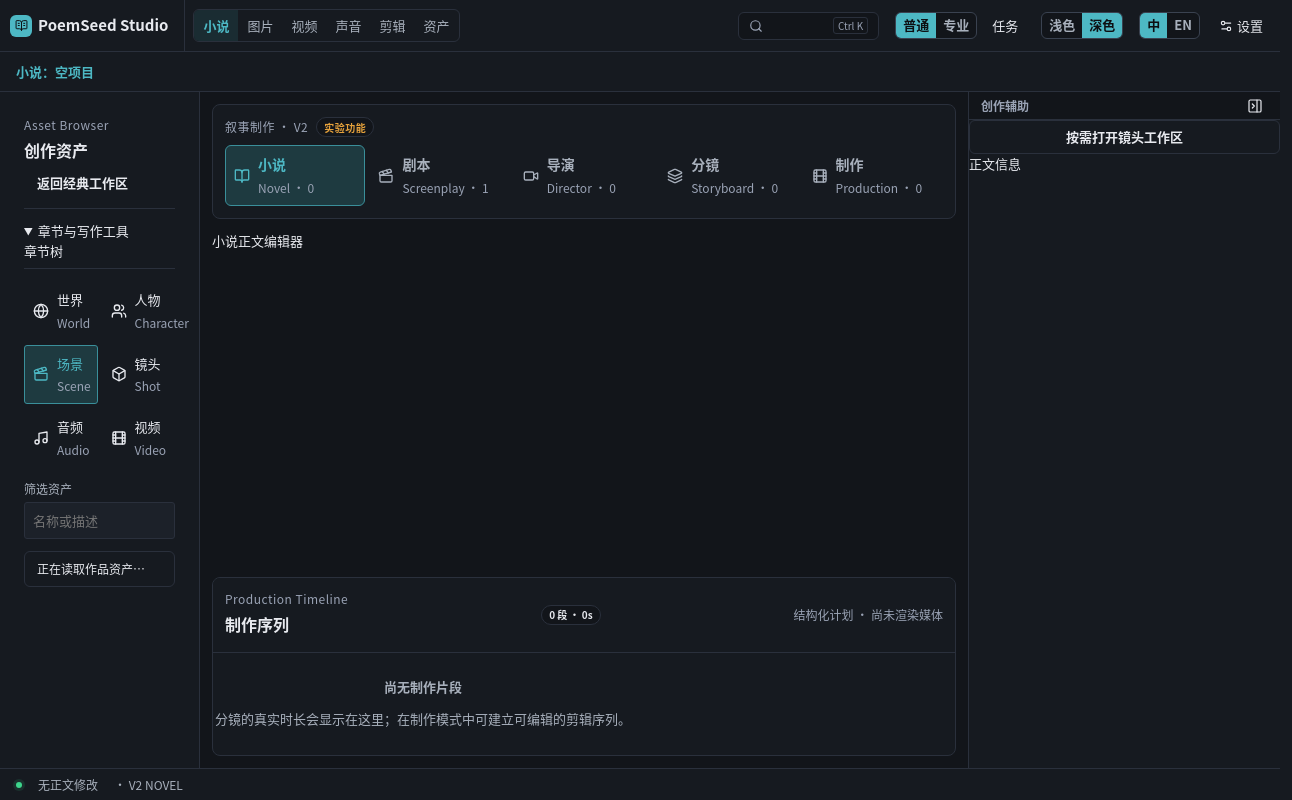
Test: retains original Script and blocks automatic retry when a staging receipt does not preserve its source
What coordinates should you click on to do the following:
click the tab "剧本 Screenplay · 1"
I would click on:
 (440, 176)
Its box is [369,145,510,206].
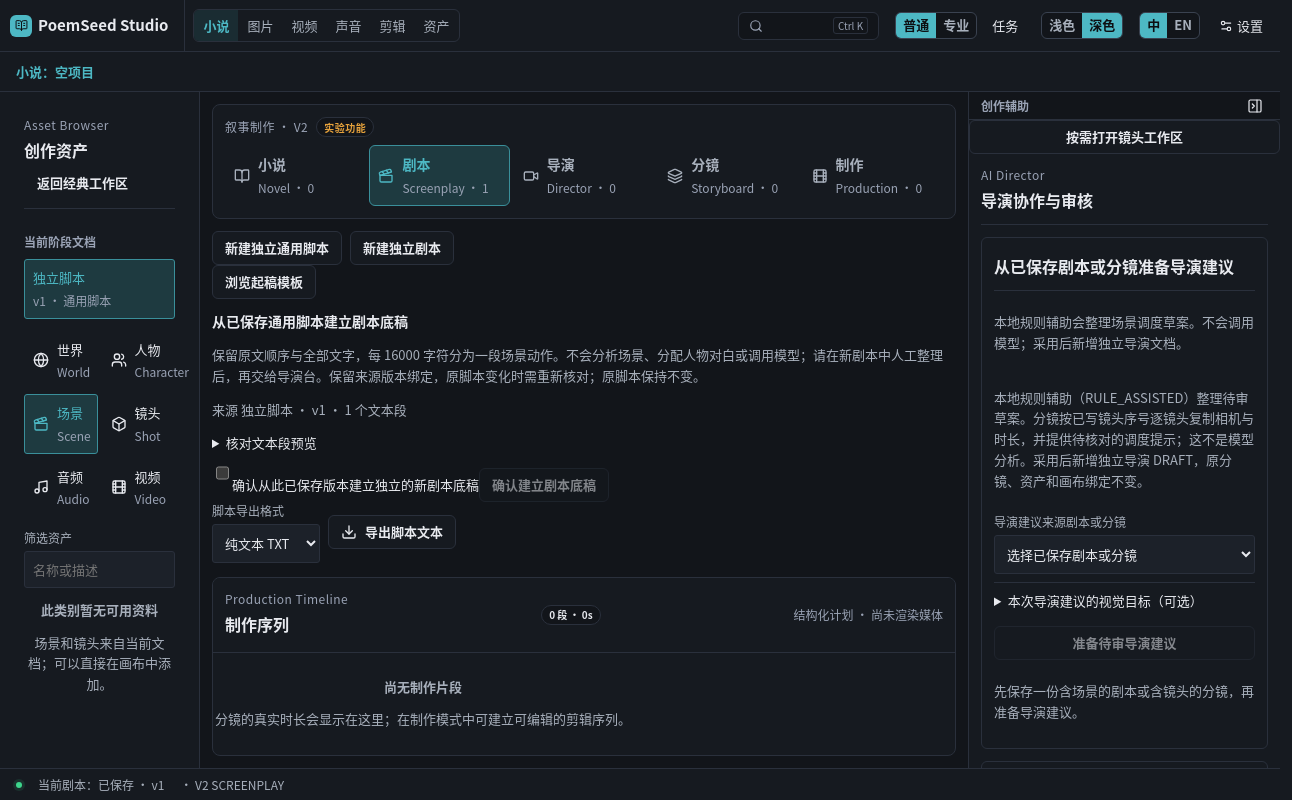
What coordinates should you click on to do the following:
click the checkbox labelled "确认从此已保存版本建立独立的新剧本底稿"
I would click on:
 (222, 473)
Its box is [216,456,229,490].
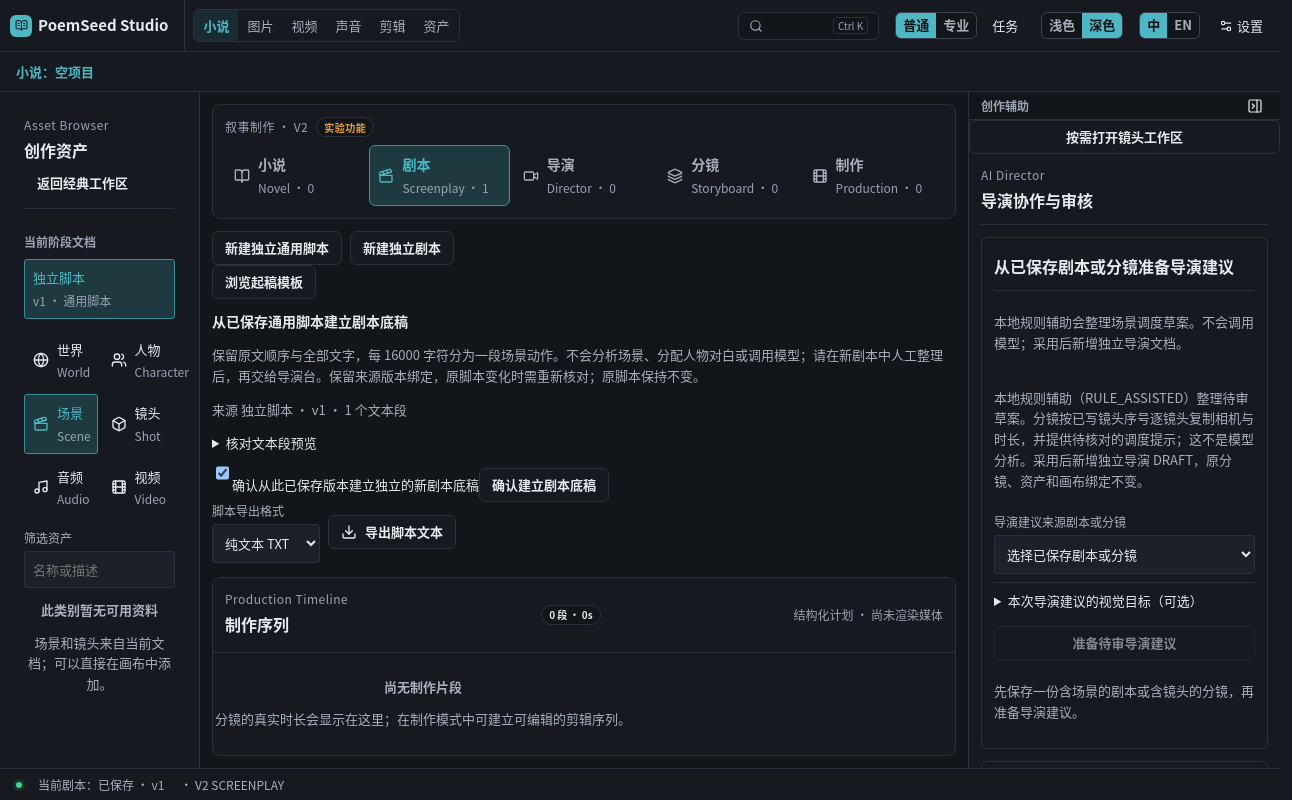
What coordinates should you click on to do the following:
click the button "确认建立剧本底稿"
I would click on:
 (544, 485)
Its box is [479,468,609,502].
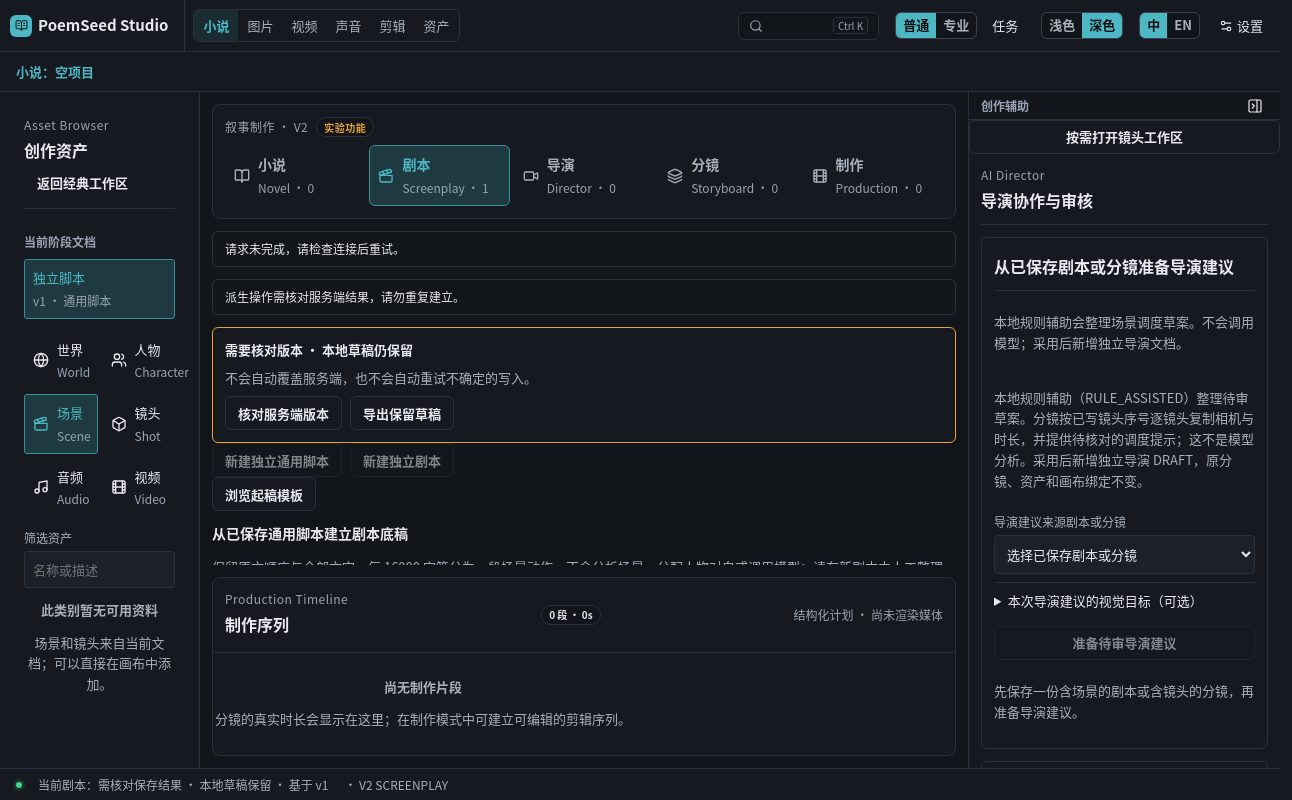
Now the text "需要核对版本 · 本地草稿仍保留" is shown, box [225,340,413,360]
